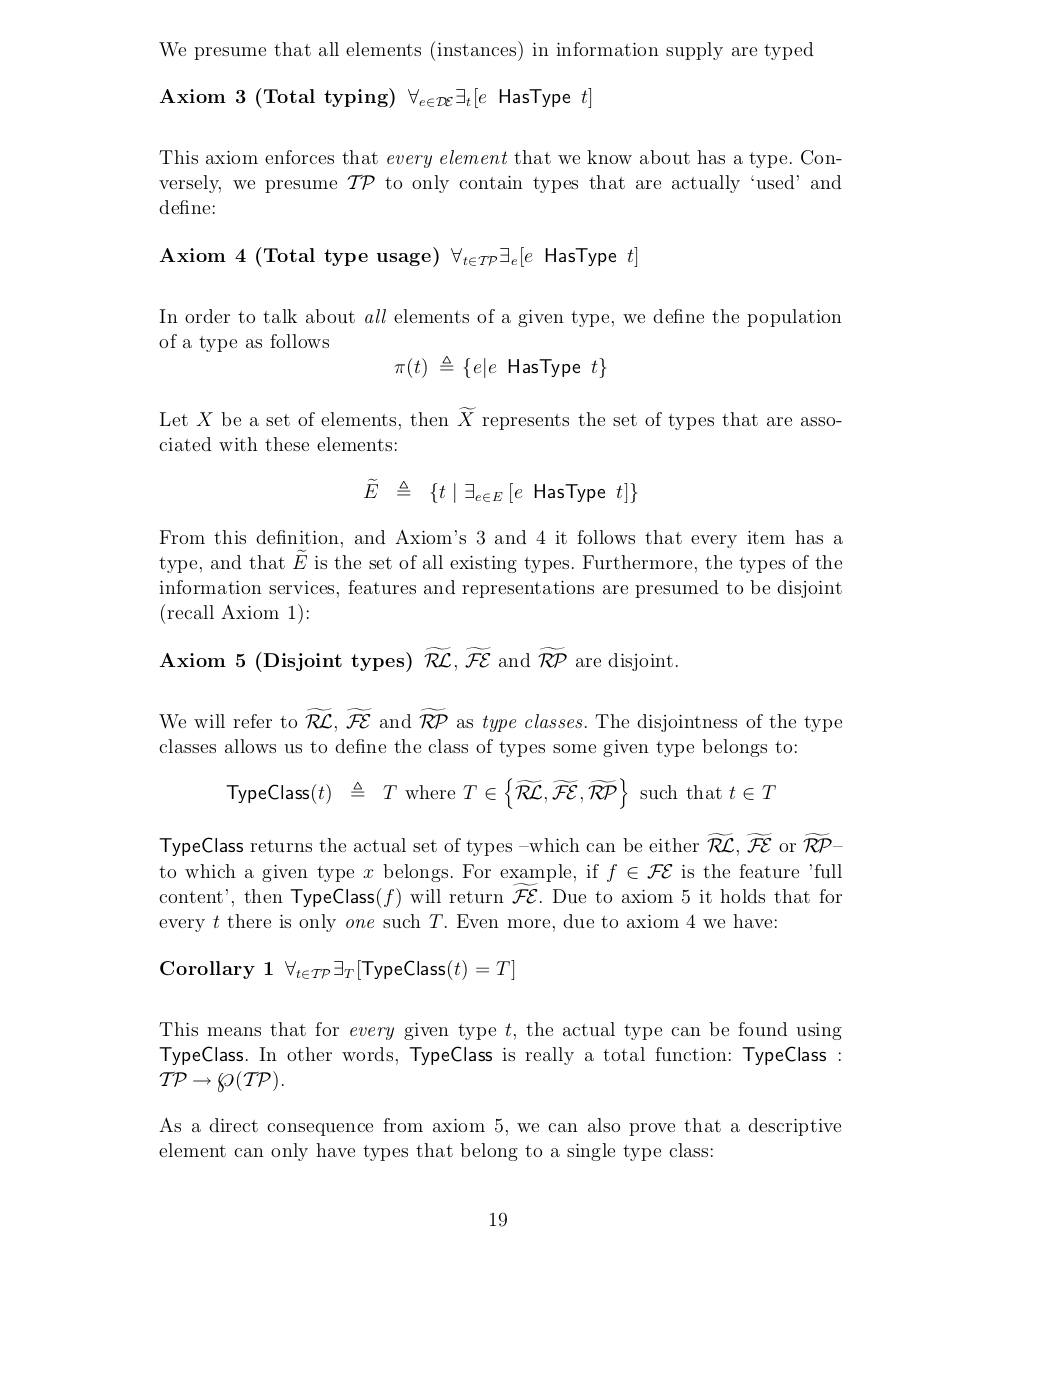formula: (226, 777, 775, 809), (364, 477, 637, 503), (395, 356, 606, 378), (159, 1070, 283, 1093)
